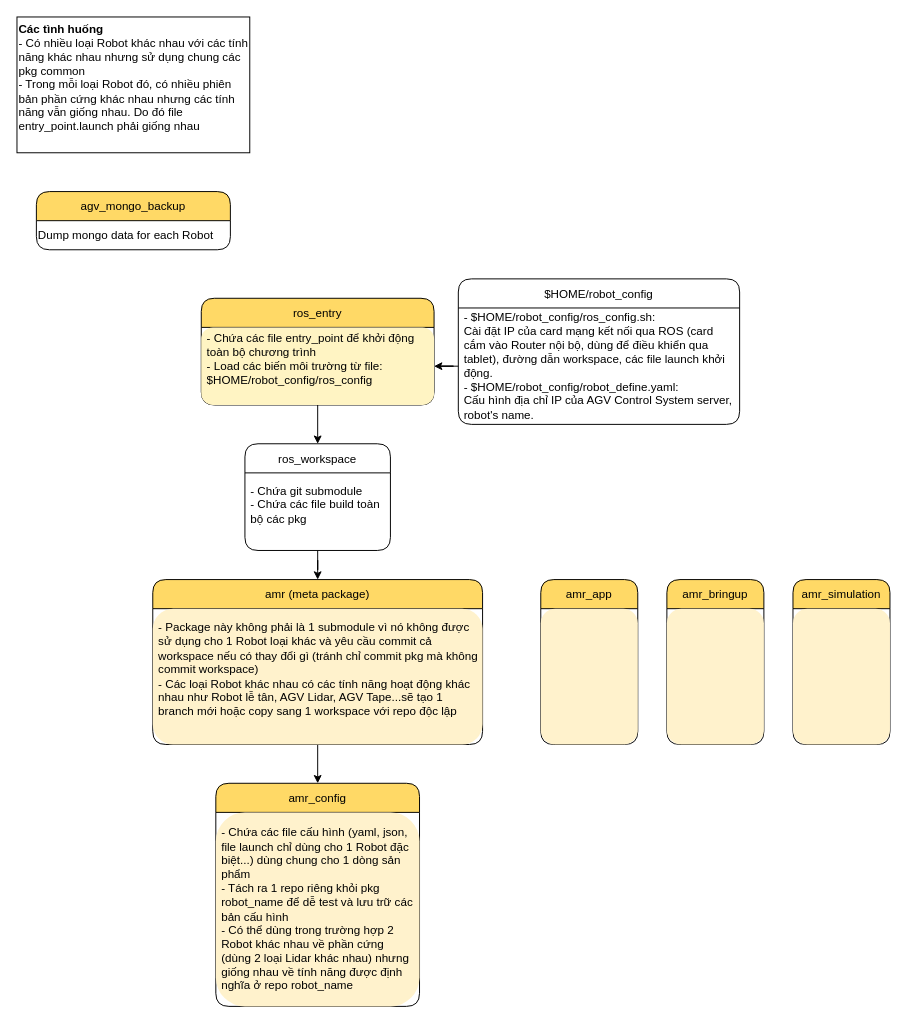
Image size: 907x1023. Some labels were removed from this diagram. The centre of each missing label's shape, as x and y in pixels:
- Launch các node ở tầng hardware, driver: [714,676]
- Launch các node ở tầng ứng dụng, nghiệp vụ: [588,676]
- Simulation: [840,676]
